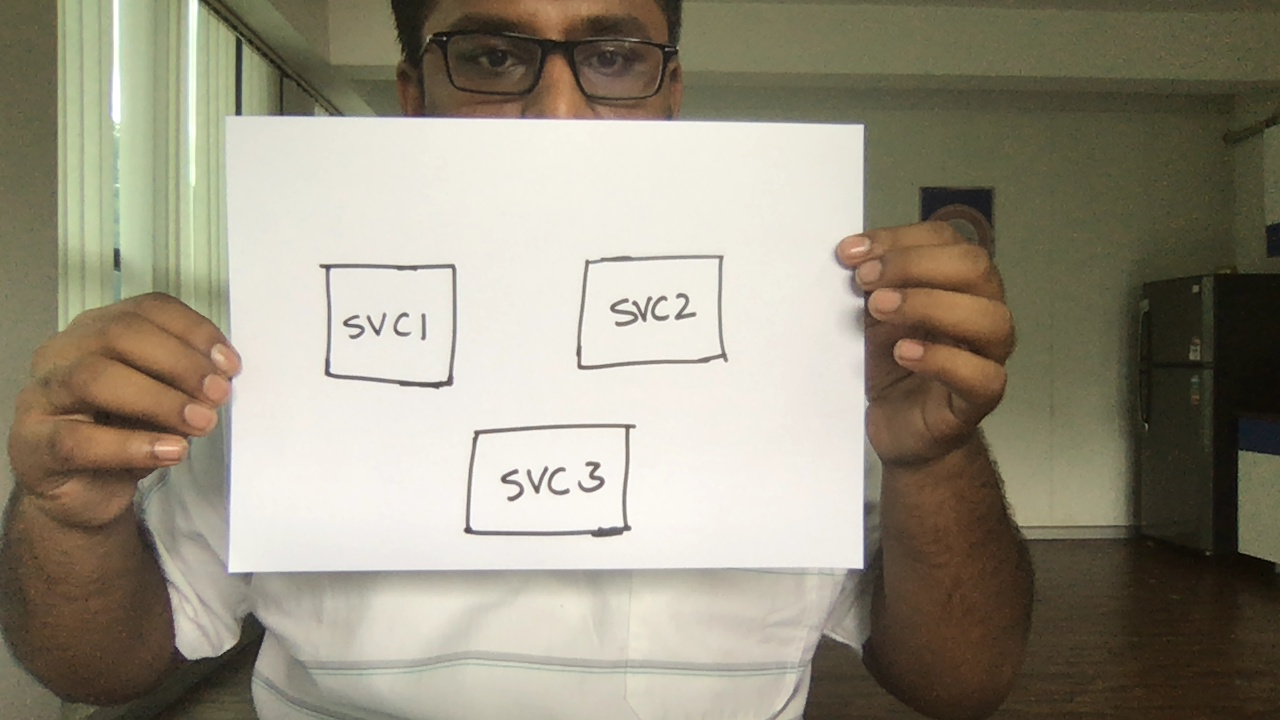ec2: (314, 248, 479, 402), (460, 417, 637, 543), (569, 247, 736, 375)
